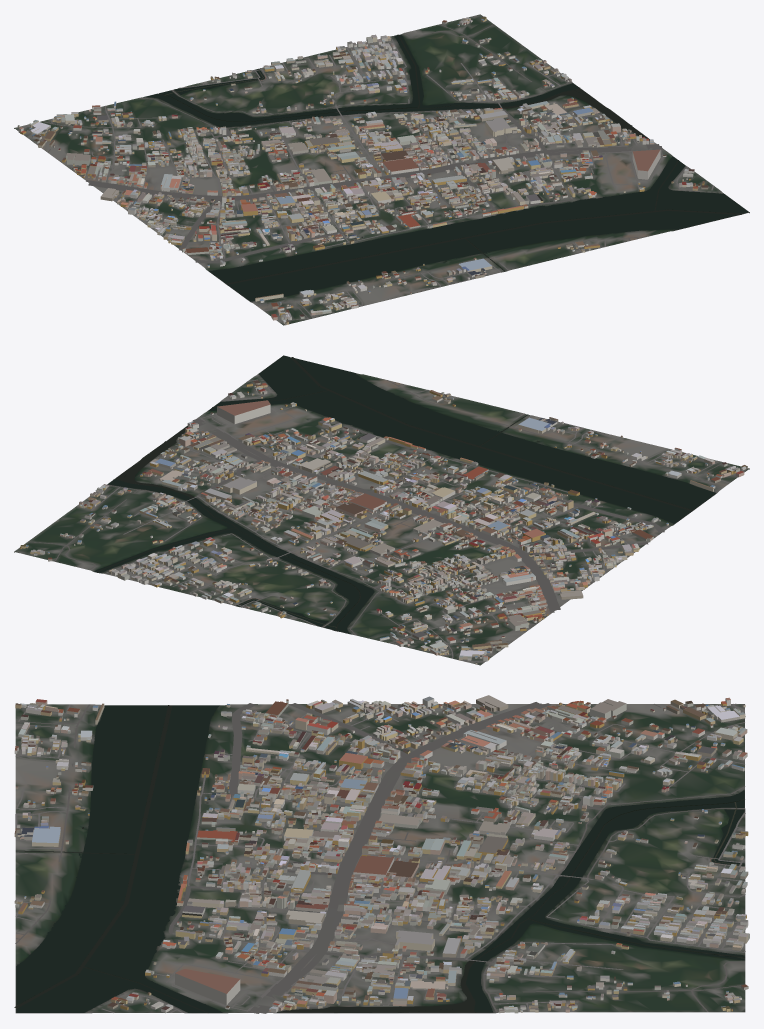
3 renders of one model, top to bottom at view 1: azimuth 30°, elevation 25°; view 2: azimuth 150°, elevation 25°; view 3: azimuth 270°, elevation 25°, orthographic. The views are drawn at different scales.
Parts seen in each view (by area): view 1: ground, buildings, water, roads; view 2: ground, buildings, water, roads; view 3: ground, buildings, water, roads.
Boxes of the visible parts, <box> form: ground: <box>14,14,749,325</box>; buildings: <box>17,16,708,325</box>; water: <box>144,34,748,301</box>; roads: <box>17,24,713,321</box>; ground: <box>14,355,749,665</box>; buildings: <box>20,380,747,664</box>; water: <box>94,355,716,633</box>; roads: <box>28,379,740,662</box>; ground: <box>15,704,745,1013</box>; buildings: <box>14,695,749,1013</box>; water: <box>14,705,745,1013</box>; roads: <box>15,702,745,1013</box>.
Bounding box in the file's own units: 1429 × 28.4 × 1413.
